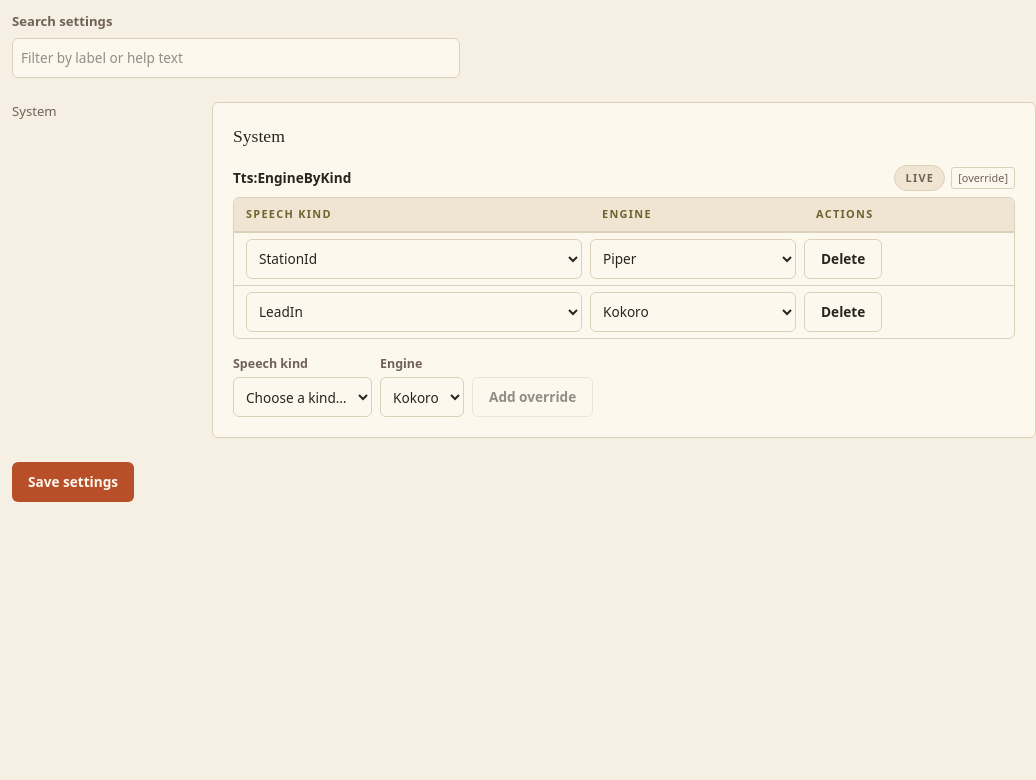
Feature: Tts:EngineByKind staging rides the dirty-pill pattern › Scenario: the unsaved-changes badge tracks the staged map › clears after a successful Save settings
Select "Kokoro" in the dropdown named "Engine for override 1": (693, 259) x1=590 y1=239 x2=796 y2=279
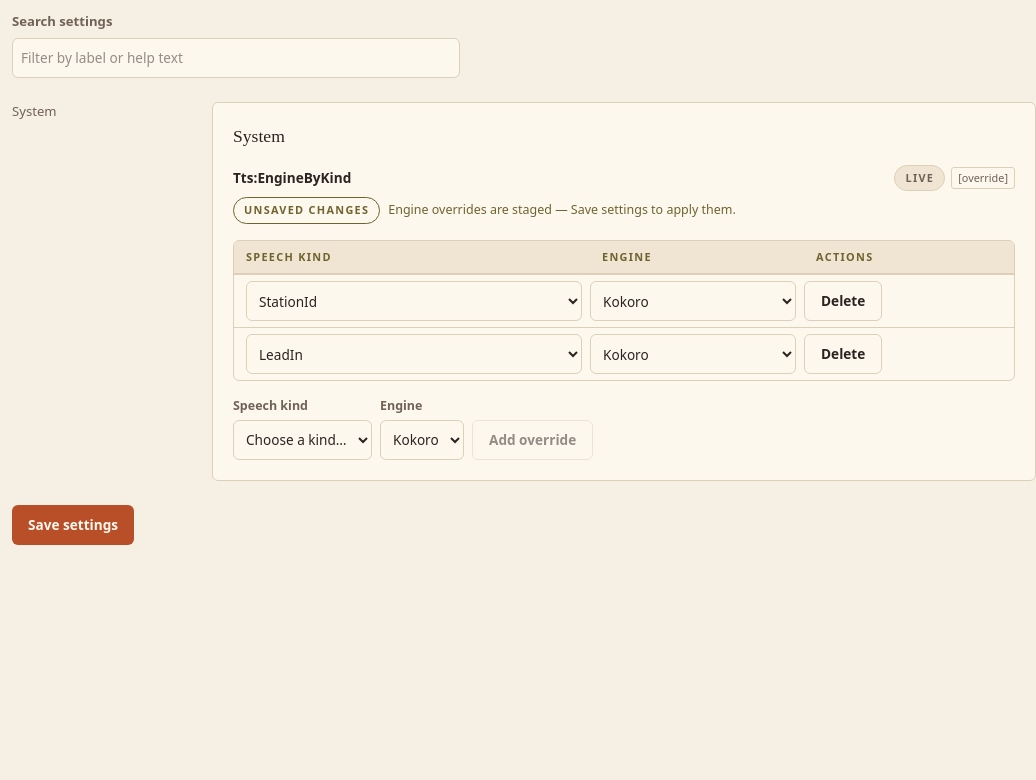
Click the button "Save settings": (73, 525) x1=12 y1=505 x2=134 y2=545
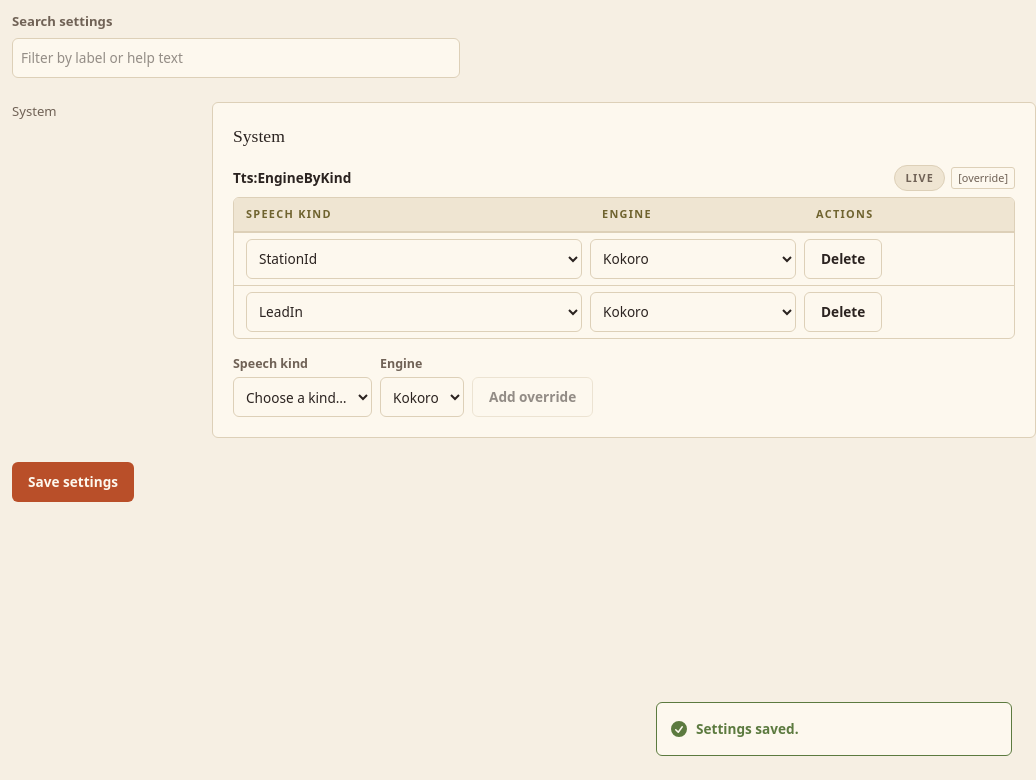
Check: the message with test id "engine-by-kind-dirty-notice" is gone
